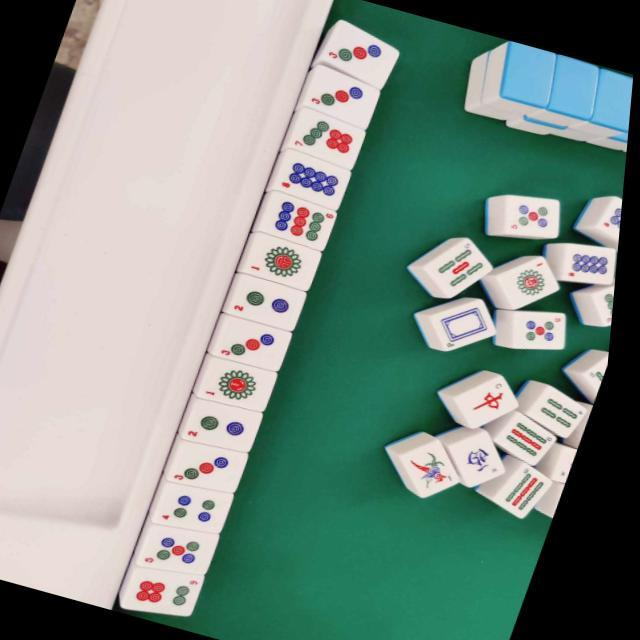sd1: (205, 357, 282, 411), (250, 236, 326, 286)
sd2: (192, 399, 268, 453), (233, 276, 310, 329)
sd3: (176, 439, 254, 494), (221, 317, 298, 371), (305, 73, 380, 119), (323, 32, 399, 76)
sd4: (162, 482, 240, 536)
sd5: (149, 526, 224, 577)
sd6: (136, 564, 210, 615)
sd7: (290, 113, 367, 163)
sd8: (277, 155, 353, 205)
sd9: (263, 195, 340, 245)
